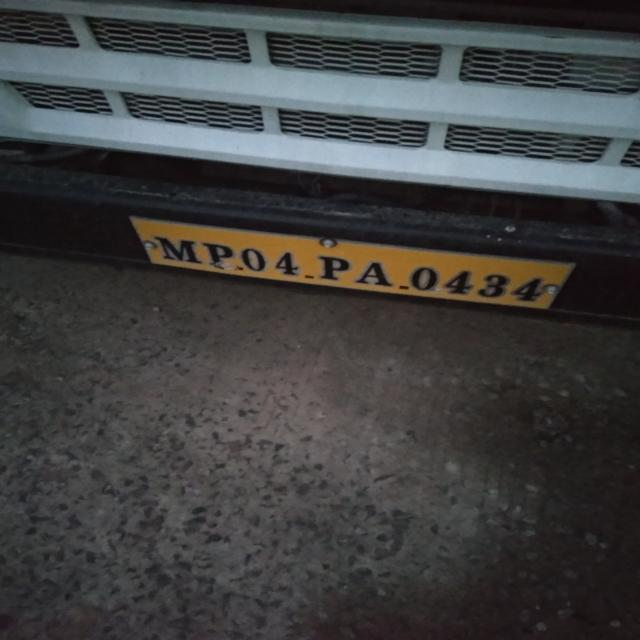Number_Plate_Detected: (126, 208, 587, 315)
